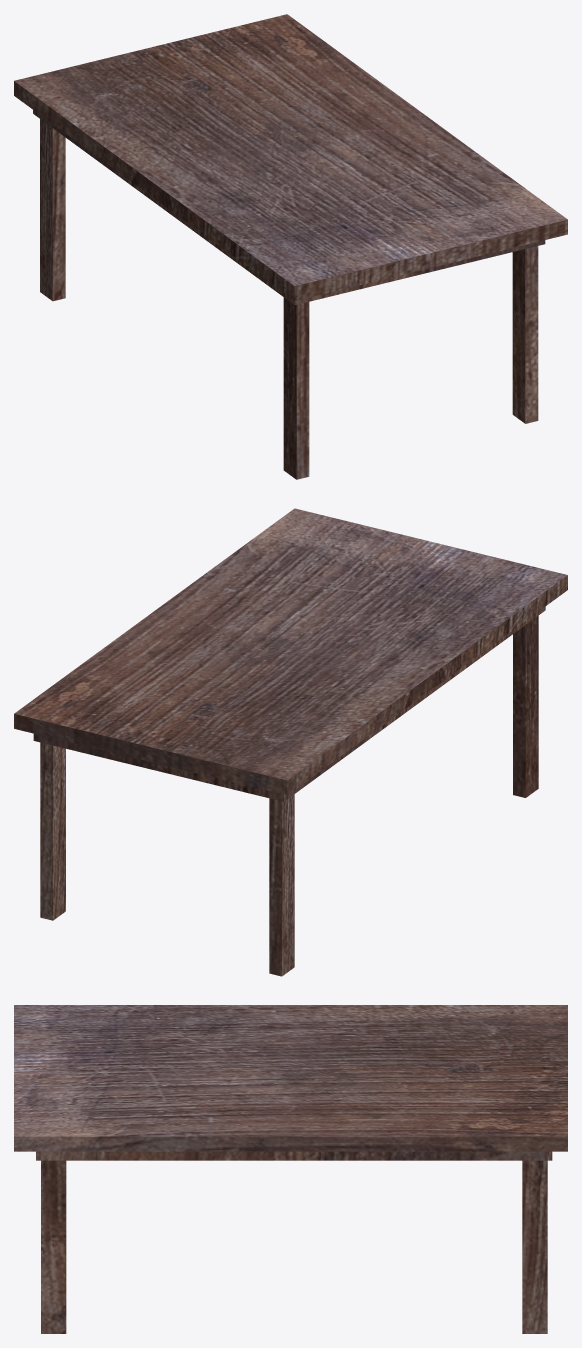
File: table.glb
3 renders of one model, top to bottom at view 1: azimuth 30°, elevation 25°; view 2: azimuth 150°, elevation 25°; view 3: azimuth 270°, elevation 25°, orthographic.
Visible parts, largest first — view 1: Cube.002; view 2: Cube.002; view 3: Cube.002.
Part boxes in pixels (x1=…): Cube.002: x1=14, y1=14, x2=567, y2=479; Cube.002: x1=14, y1=508, x2=567, y2=976; Cube.002: x1=14, y1=1005, x2=567, y2=1333.
Size of the model in its own units: 1.12 by 0.8156 by 2.
1 material, 1 textured.
